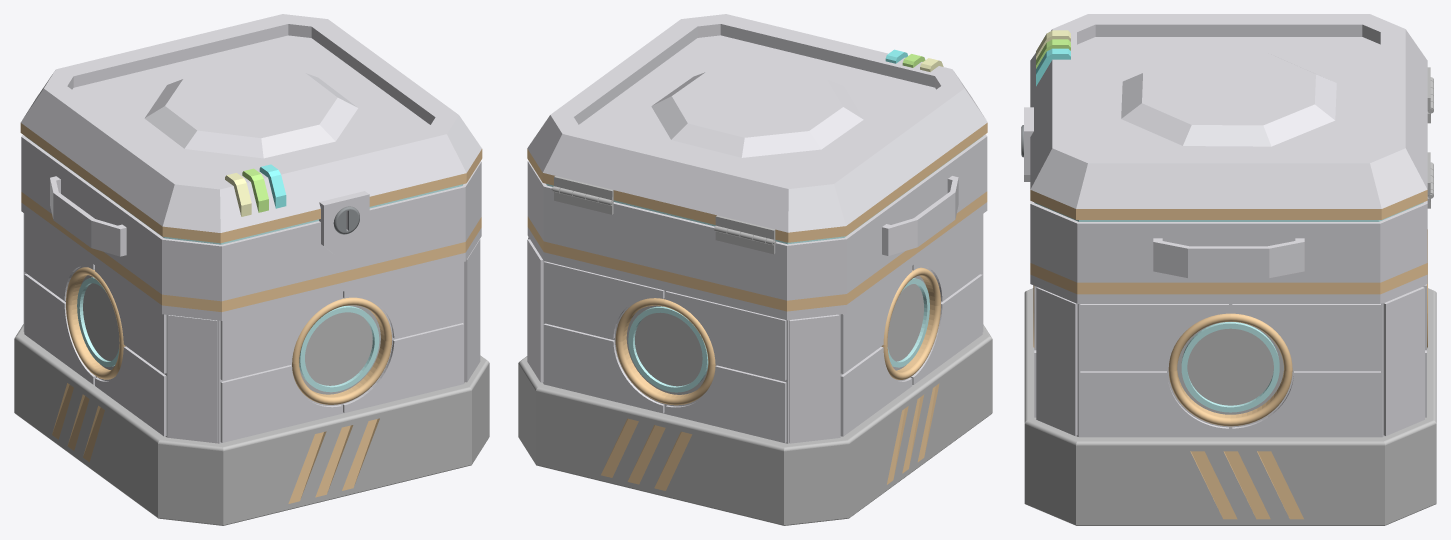
Rendered from Sci fi small Crate.obj.
3 views of the same model, side by side, from view 1: azimuth 30°, elevation 25°; view 2: azimuth 150°, elevation 25°; view 3: azimuth 270°, elevation 25° (orthographic). The views are drawn at different scales.
Parts seen in each view (by area): view 1: Mesh17 Component_4_1 Component_1_1 Model, Mesh16 Component_4_1 Component_1_1 Model, Mesh6 Component_7_1 Component_2_1 Component_1_1 Model, Mesh1 Component_6_1 Component_3_1 Component_1_1 Model, Mesh7 Component_7_2 Component_2_1 Component_1_1 Model, Mesh5 Component_3_1 Component_1_1 Model, Mesh2 Component_6_2 Component_3_1 Component_1_1 Model, Mesh10 Component_2_1 Component_1_1 Model, Mesh15 Component_10_1 Component_4_1 Component_1_1 Model, Mesh11 Component_5_1 Component_4_1 Component_1_1 Model, Mesh14 Component_11_1 Component_10_1 Component_4_1 Component_1_1; view 2: Mesh17 Component_4_1 Component_1_1 Model, Mesh16 Component_4_1 Component_1_1 Model, Mesh8 Component_7_3 Component_2_1 Component_1_1 Model, Mesh3 Component_6_3 Component_3_1 Component_1_1 Model, Mesh7 Component_7_2 Component_2_1 Component_1_1 Model, Mesh5 Component_3_1 Component_1_1 Model, Mesh2 Component_6_2 Component_3_1 Component_1_1 Model, Mesh10 Component_2_1 Component_1_1 Model, Mesh12 Component_8_1 Component_4_1 Component_1_1 Model, Mesh13 Component_8_2 Component_4_1 Component_1_1 Model; view 3: Mesh17 Component_4_1 Component_1_1 Model, Mesh9 Component_7_4 Component_2_1 Component_1_1 Model, Mesh16 Component_4_1 Component_1_1 Model, Mesh4 Component_6_4 Component_3_1 Component_1_1 Model, Mesh5 Component_3_1 Component_1_1 Model, Mesh10 Component_2_1 Component_1_1 Model, Mesh18 Component_4_1 Component_1_1 Model, Mesh11 Component_5_1 Component_4_1 Component_1_1 Model, Mesh15 Component_10_1 Component_4_1 Component_1_1 Model.
Part boxes in pixels (x1,y1,x2,y2): Mesh17 Component_4_1 Component_1_1 Model: (20,14,482,243); Mesh16 Component_4_1 Component_1_1 Model: (21,134,481,320); Mesh6 Component_7_1 Component_2_1 Component_1_1 Model: (219,262,463,443); Mesh1 Component_6_1 Component_3_1 Component_1_1 Model: (223,390,471,524); Mesh7 Component_7_2 Component_2_1 Component_1_1 Model: (24,214,167,437); Mesh5 Component_3_1 Component_1_1 Model: (14,324,489,525); Mesh2 Component_6_2 Component_3_1 Component_1_1 Model: (14,339,157,517); Mesh10 Component_2_1 Component_1_1 Model: (23,213,480,443); Mesh15 Component_10_1 Component_4_1 Component_1_1 Model: (319,191,369,255); Mesh11 Component_5_1 Component_4_1 Component_1_1 Model: (25,136,463,244); Mesh14 Component_11_1 Component_10_1 Component_4_1 Component_1_1: (333,206,359,234); Mesh17 Component_4_1 Component_1_1 Model: (527,14,987,242); Mesh16 Component_4_1 Component_1_1 Model: (527,134,987,320); Mesh8 Component_7_3 Component_2_1 Component_1_1 Model: (543,261,787,443); Mesh3 Component_6_3 Component_3_1 Component_1_1 Model: (536,391,783,524); Mesh7 Component_7_2 Component_2_1 Component_1_1 Model: (840,214,982,437); Mesh5 Component_3_1 Component_1_1 Model: (518,324,992,525); Mesh2 Component_6_2 Component_3_1 Component_1_1 Model: (849,339,992,517); Mesh10 Component_2_1 Component_1_1 Model: (527,214,983,443); Mesh12 Component_8_1 Component_4_1 Component_1_1 Model: (714,215,776,254); Mesh13 Component_8_2 Component_4_1 Component_1_1 Model: (551,176,613,214); Mesh17 Component_4_1 Component_1_1 Model: (1030,14,1427,219); Mesh9 Component_7_4 Component_2_1 Component_1_1 Model: (1078,303,1382,437); Mesh16 Component_4_1 Component_1_1 Model: (1030,201,1427,303); Mesh4 Component_6_4 Component_3_1 Component_1_1 Model: (1076,445,1384,524); Mesh5 Component_3_1 Component_1_1 Model: (1024,288,1436,525); Mesh10 Component_2_1 Component_1_1 Model: (1036,286,1424,436); Mesh18 Component_4_1 Component_1_1 Model: (1153,238,1304,278); Mesh11 Component_5_1 Component_4_1 Component_1_1 Model: (1034,202,1423,221); Mesh15 Component_10_1 Component_4_1 Component_1_1 Model: (1024,107,1033,181).
Size of the model in its own units: 554 by 488 by 516.
